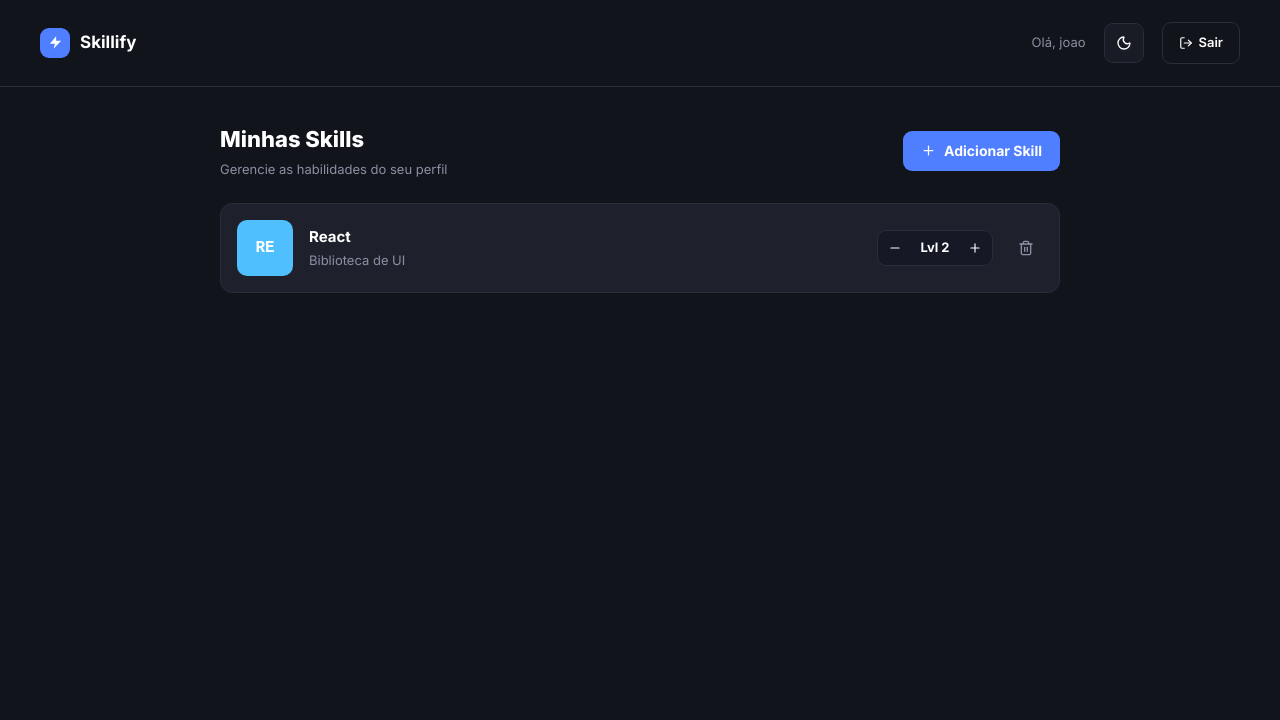
Test: HomePage › deletes a skill after confirmation
Click the button named "Excluir skill" at (1026,248), box [1009,231,1043,265]
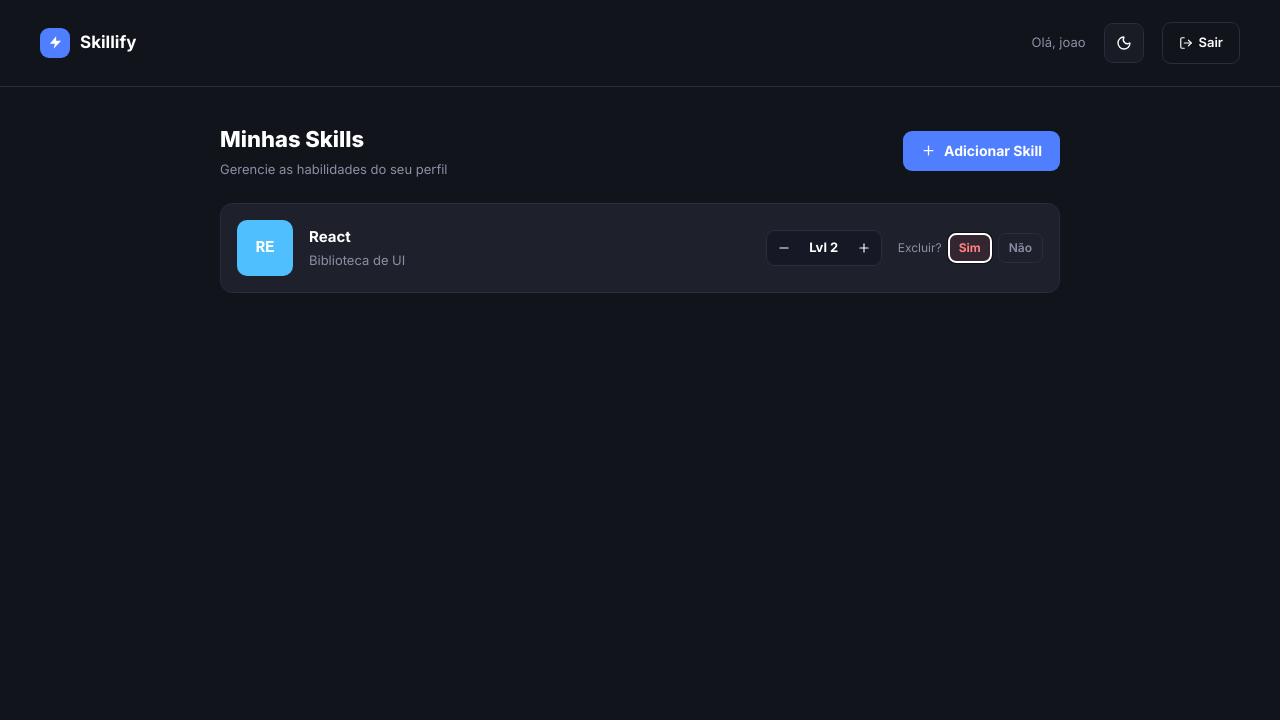
Click the button "Sim" at (970,248), box [948,233,992,263]
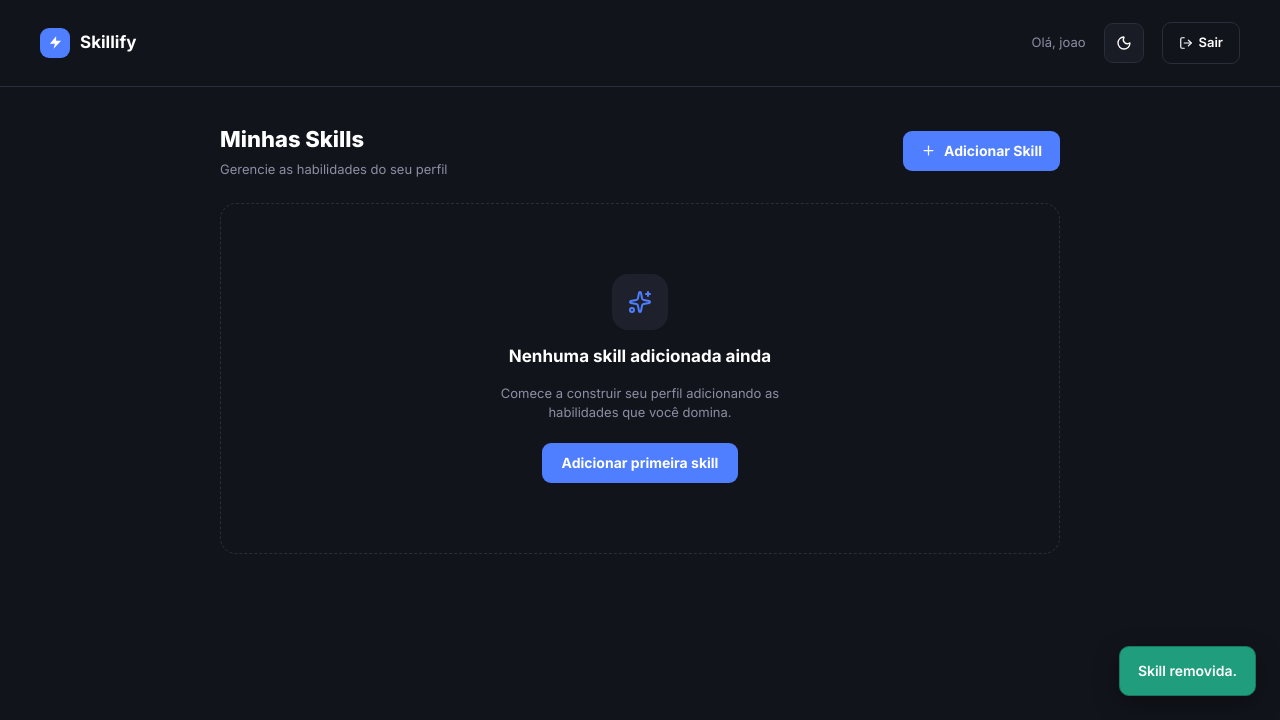
Now the text "Skill removida." is shown, box [1119,646,1256,696]
Now the text "React" is gone
